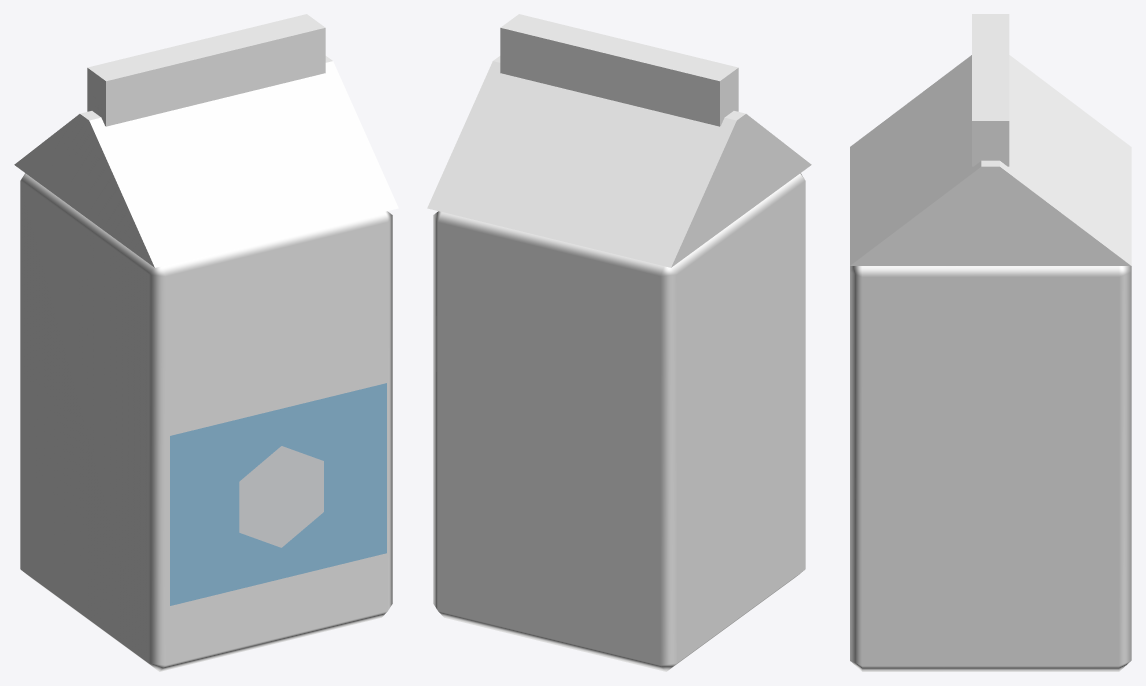
The model's file is CM_Product_MilkCarton.fbx.
3 renders of one model, left to right at view 1: azimuth 30°, elevation 25°; view 2: azimuth 150°, elevation 25°; view 3: azimuth 270°, elevation 25°, orthographic.
Parts seen in each view (by area): view 1: MilkCarton; view 2: MilkCarton; view 3: MilkCarton.
Part boxes in pixels (box(x1,y1,x2,y2)): MilkCarton: box(14, 14, 398, 671); MilkCarton: box(427, 14, 811, 671); MilkCarton: box(850, 14, 1131, 671).
Size of the model in its own units: 0.9 by 0.93 by 1.94.
1 material, 1 textured.
